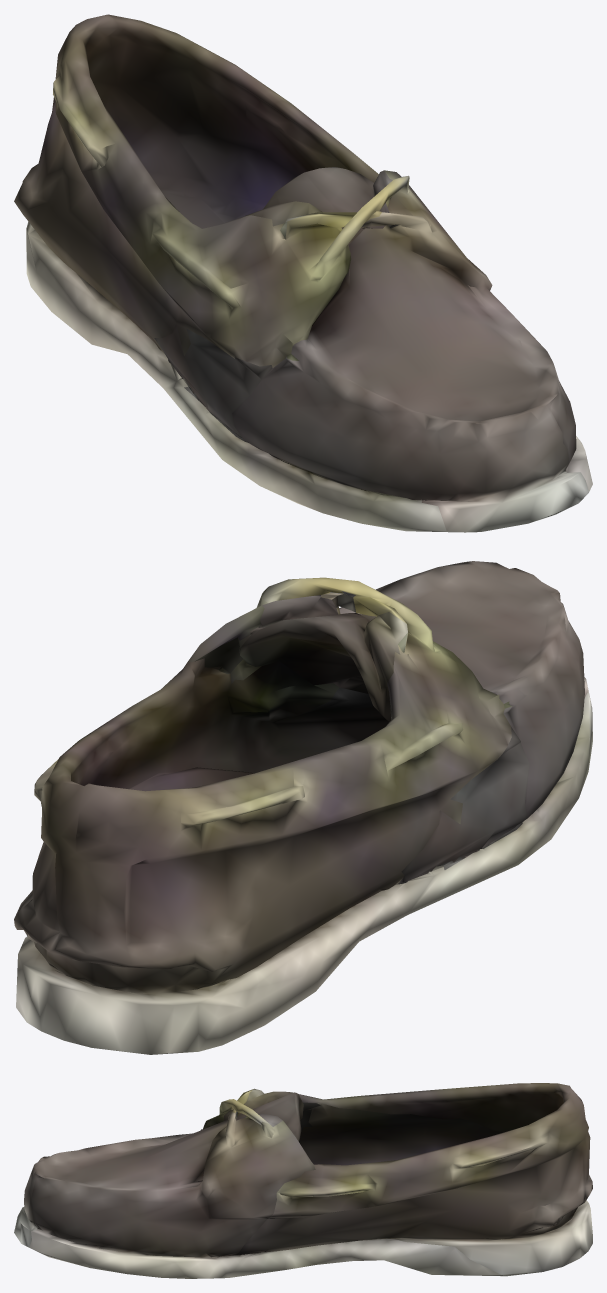
Rendered from Womens_Authentic_Original_Boat_Shoe_in_Classic_Brown_Leather_cJSCWiH7QmB-medium.glb.
The picture shows the model from 3 angles, top to bottom: view 1: azimuth 30°, elevation 25°; view 2: azimuth 150°, elevation 25°; view 3: azimuth 270°, elevation 25°; orthographic projection. The views are drawn at different scales.
Visible parts, largest first — view 1: Womens_Authentic_Original_Boat_Shoe_in_Classic_Brown_Leather; view 2: Womens_Authentic_Original_Boat_Shoe_in_Classic_Brown_Leather; view 3: Womens_Authentic_Original_Boat_Shoe_in_Classic_Brown_Leather.
Boxes of the visible parts, left/top/right/bottom form: Womens_Authentic_Original_Boat_Shoe_in_Classic_Brown_Leather: left=14, top=14, right=592, bottom=532; Womens_Authentic_Original_Boat_Shoe_in_Classic_Brown_Leather: left=14, top=561, right=592, bottom=1054; Womens_Authentic_Original_Boat_Shoe_in_Classic_Brown_Leather: left=14, top=1083, right=592, bottom=1278.
Bounding box in the file's own units: 0.0881 × 0.0731 × 0.2462.
Materials: 1 (1 with a texture image).
